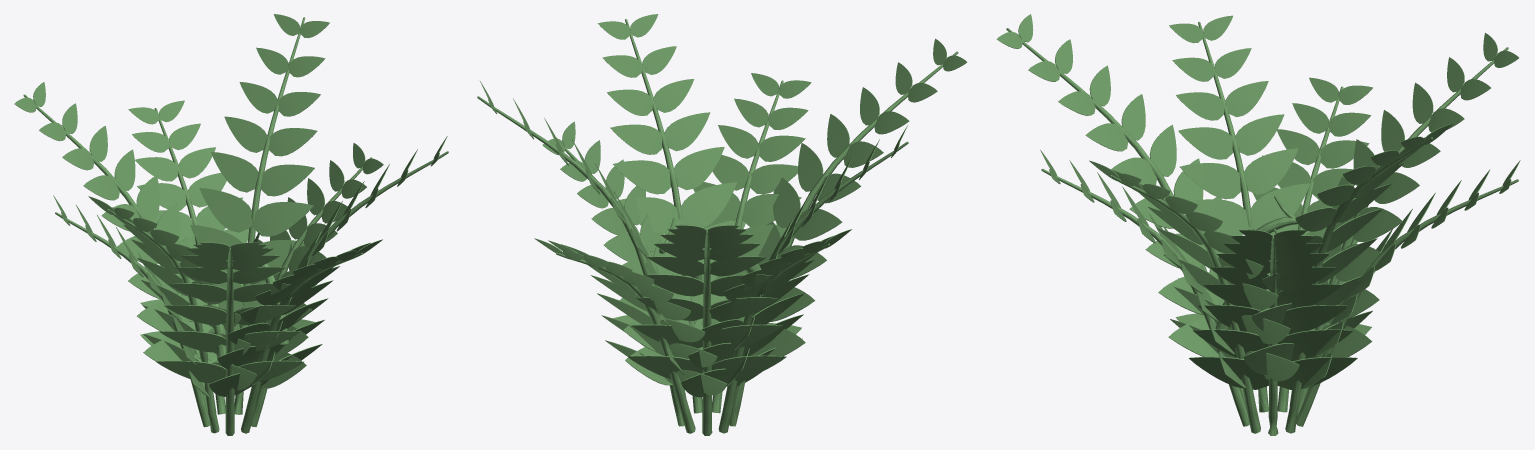
The model's file is birds-and-reptiles-hd-fern-clump-2b1047f9__28119.glb.
3 views of the same model, side by side, from view 1: azimuth 30°, elevation 25°; view 2: azimuth 150°, elevation 25°; view 3: azimuth 270°, elevation 25° (orthographic). The views are drawn at different scales.
Parts seen in each view (by area): view 1: fern-clump; view 2: fern-clump; view 3: fern-clump.
Boxes of the visible parts, bbox=[...] form: fern-clump: bbox=[14, 14, 448, 435]; fern-clump: bbox=[477, 14, 967, 435]; fern-clump: bbox=[996, 14, 1520, 435].
Size of the model in its own units: 0.6354 by 0.6144 by 0.792.
1 material, 1 textured.
